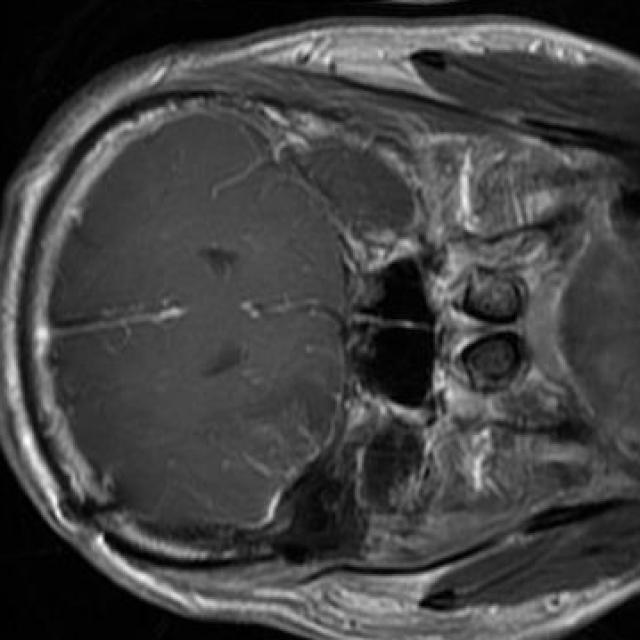glioma: (168, 414, 424, 565)
